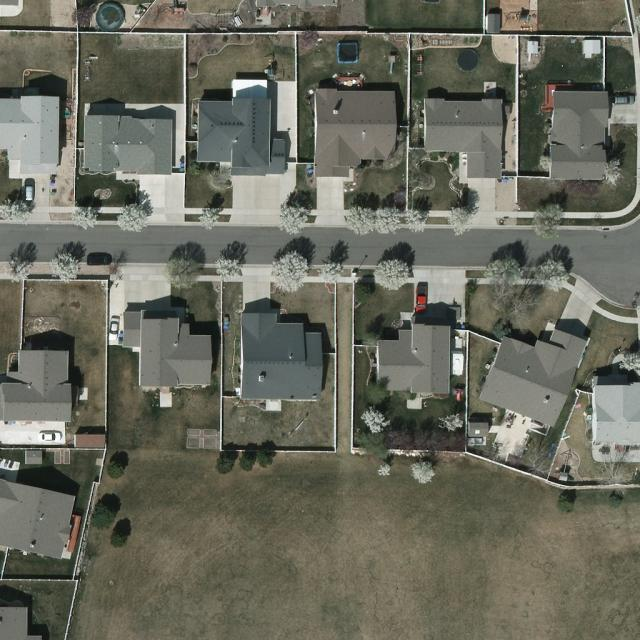vehicle: (414, 284, 430, 316), (23, 180, 38, 204), (38, 432, 64, 442), (109, 316, 119, 342), (87, 256, 113, 266)
